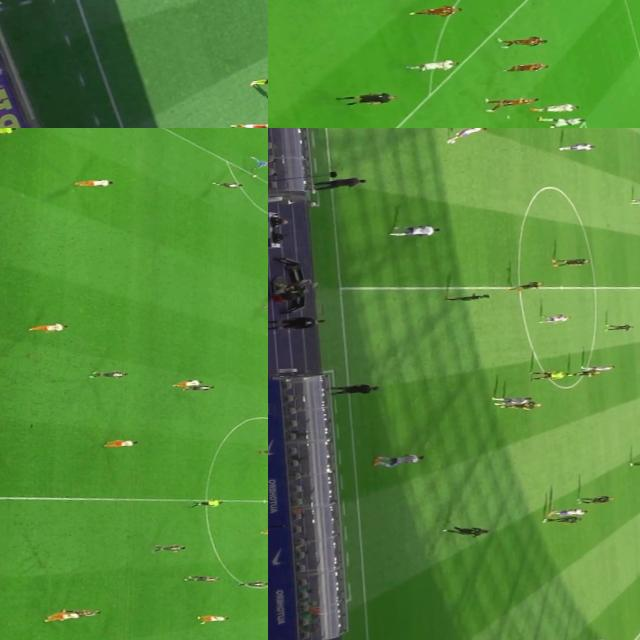ball: (446, 138, 464, 148), (250, 173, 258, 178)
player: (400, 57, 460, 78), (406, 1, 464, 22), (369, 449, 428, 469), (437, 521, 490, 539), (383, 222, 445, 237), (490, 35, 547, 51), (531, 102, 582, 119), (484, 94, 538, 110), (537, 113, 589, 128), (544, 503, 588, 520), (446, 290, 492, 305), (535, 513, 584, 527), (22, 322, 70, 336), (502, 279, 546, 294), (442, 128, 495, 140), (502, 61, 549, 74), (178, 571, 221, 585), (492, 394, 534, 408), (574, 492, 616, 506), (550, 256, 591, 270), (556, 140, 596, 154), (58, 606, 102, 618), (68, 178, 112, 190), (578, 360, 618, 373), (501, 401, 544, 413), (148, 542, 187, 555), (38, 610, 78, 622), (242, 153, 268, 171), (100, 437, 137, 449), (86, 369, 126, 380), (539, 311, 572, 322), (192, 613, 228, 623), (232, 579, 268, 589), (602, 322, 634, 333), (167, 378, 202, 388), (570, 368, 599, 380), (207, 180, 241, 190), (184, 382, 213, 392), (253, 525, 268, 536), (251, 446, 268, 455), (626, 196, 640, 206), (628, 459, 640, 469), (95, 637, 134, 640), (261, 290, 268, 303), (258, 302, 268, 311)
